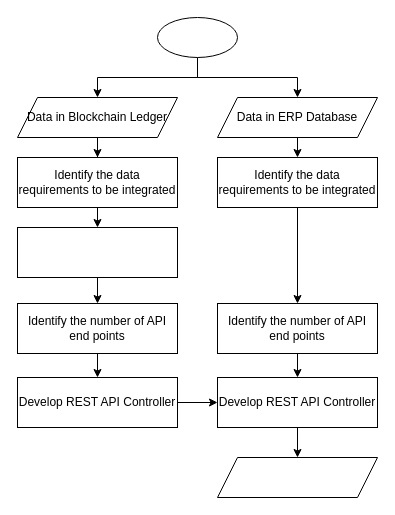
Some shapes in this 395 by 515 pixel diagram are drawn without their labels. Here are the shapes that lost their labels. From the top down, the centre of each, then its label:
At [197,37]: "Start".
At [97,252]: "Develop the Fabric SDK API".
At [297,477]: "REST API end point".
